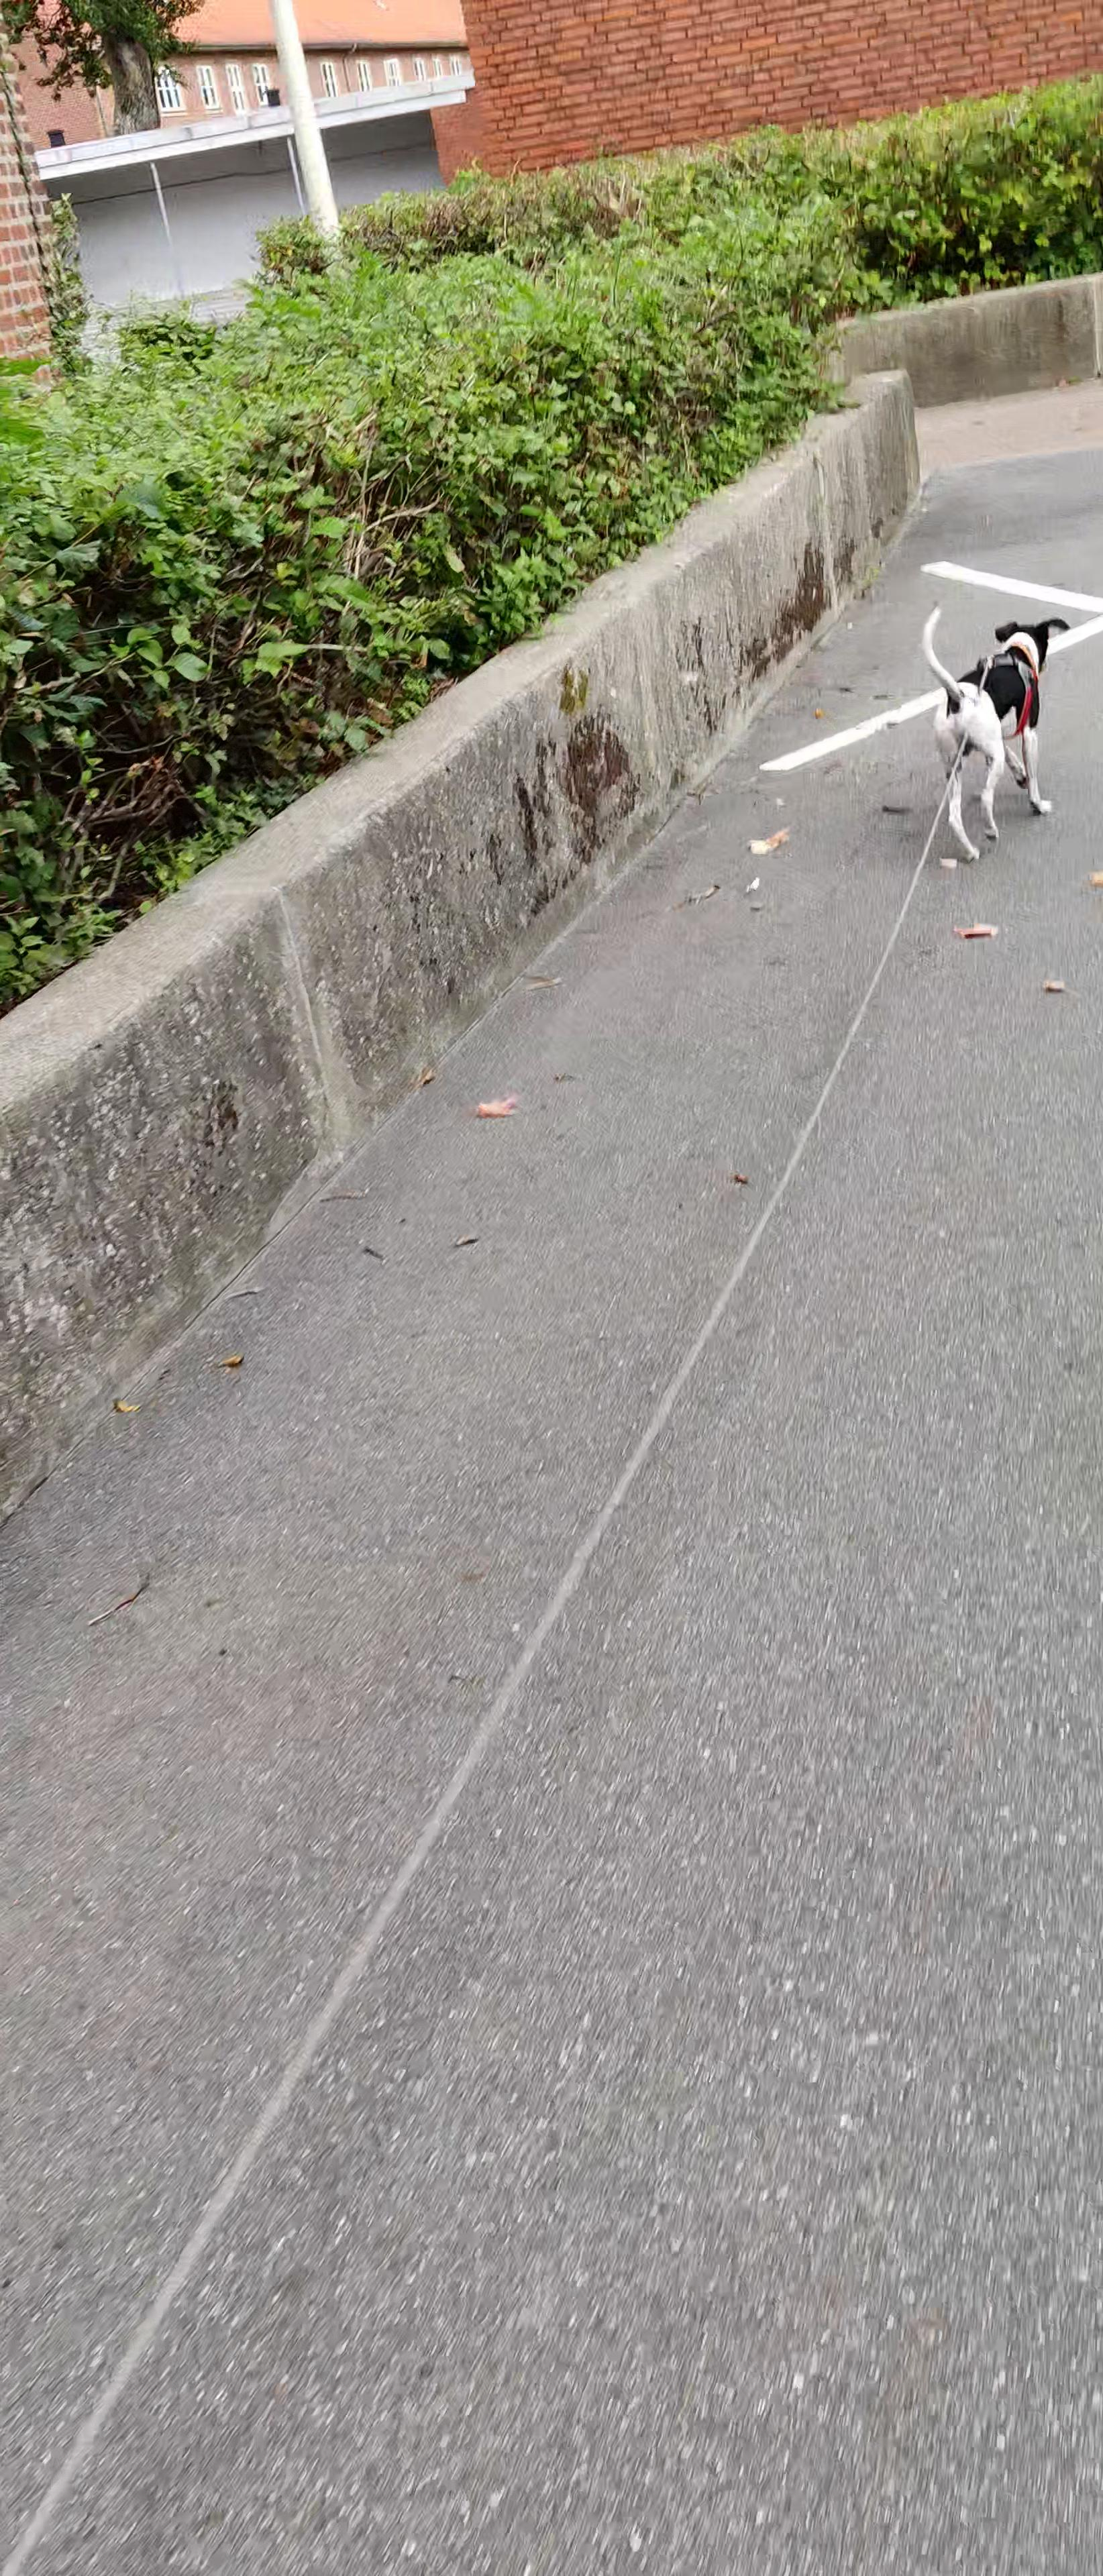Dog: (901, 596, 1082, 871)
